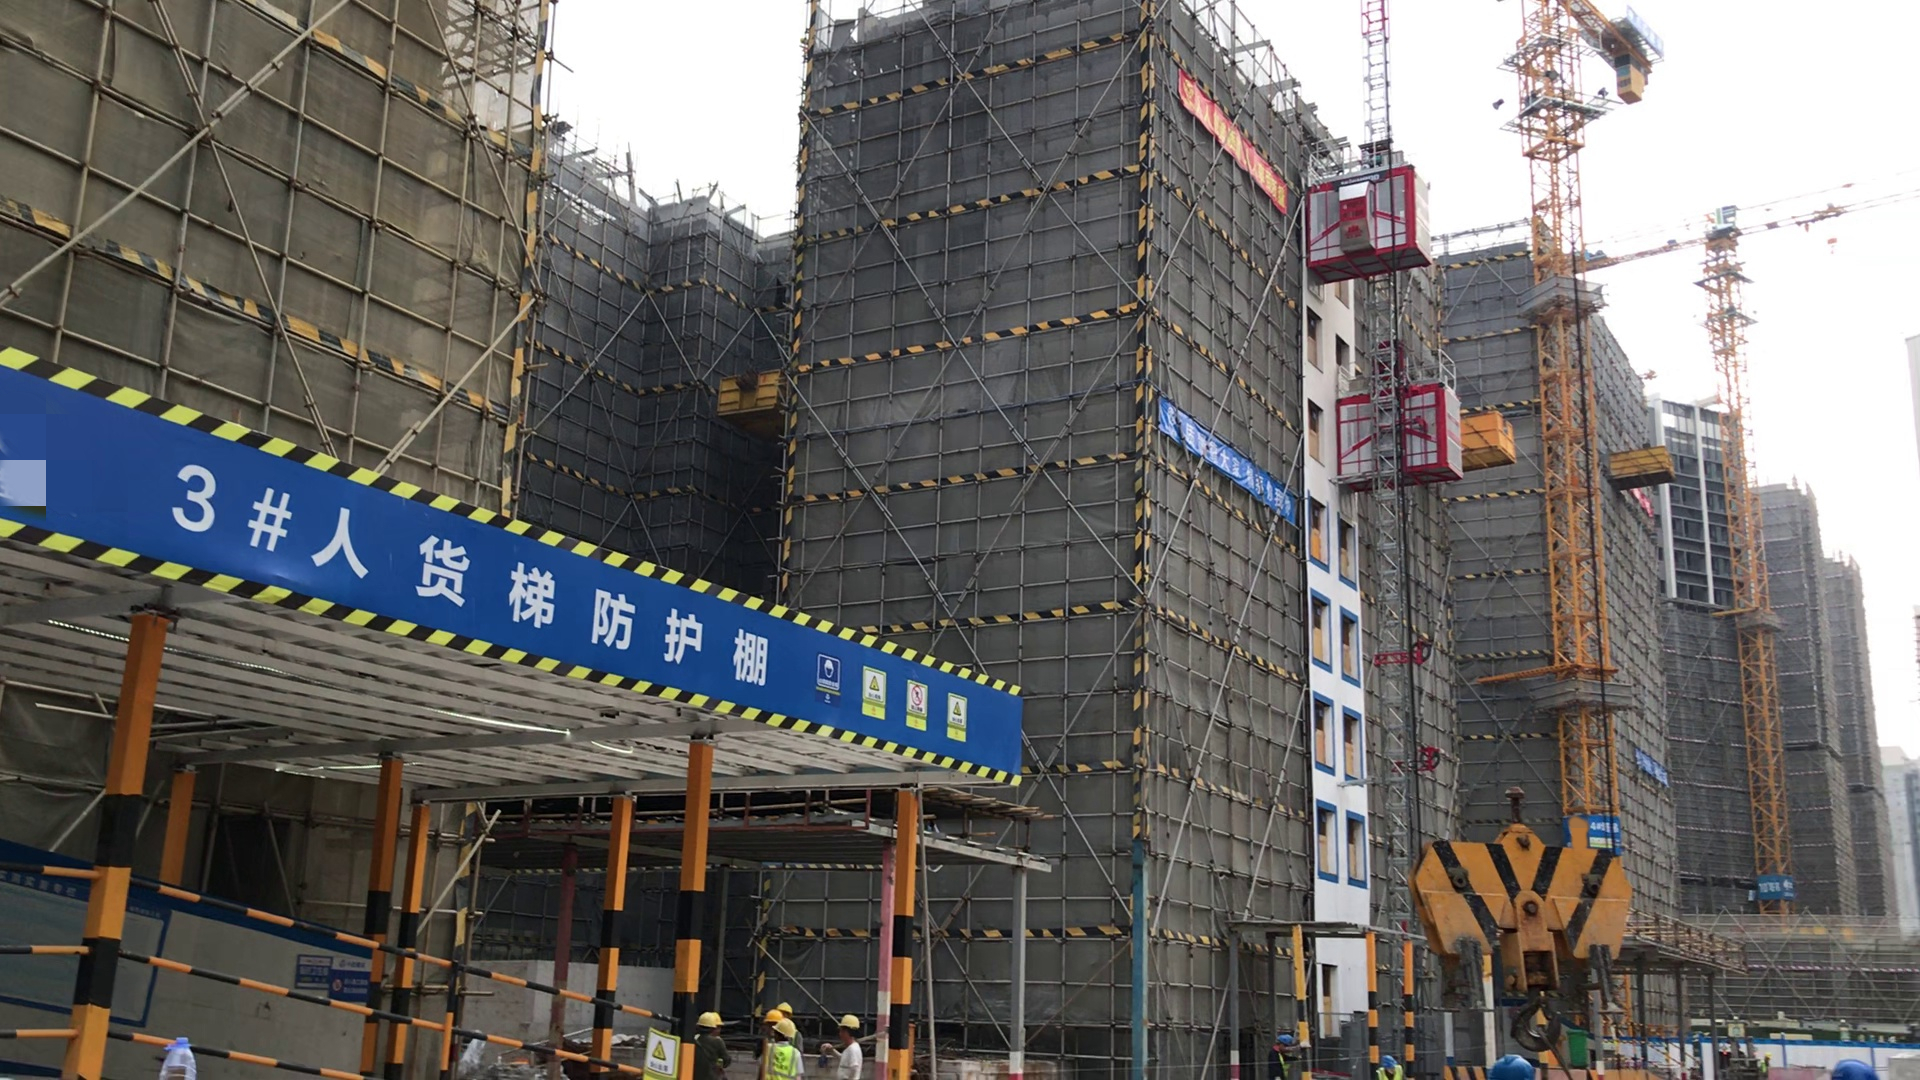helmet: (772, 1017, 796, 1041), (772, 1000, 799, 1019), (697, 1011, 723, 1033), (835, 1011, 860, 1032), (759, 1006, 786, 1023), (1378, 1054, 1399, 1073)
hook: (1401, 785, 1636, 1055)
person: (758, 991, 810, 1080), (690, 1002, 737, 1080), (826, 1012, 866, 1080)
slogan: (1156, 398, 1299, 527), (1172, 66, 1291, 219), (807, 647, 976, 750), (640, 1021, 681, 1080)
